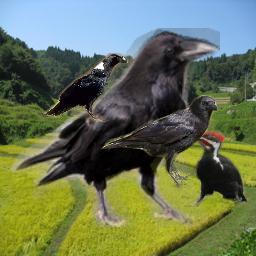Crow: (12, 28, 220, 227), (99, 95, 217, 188), (43, 53, 129, 122)
Woodpecker: (181, 127, 248, 207)
